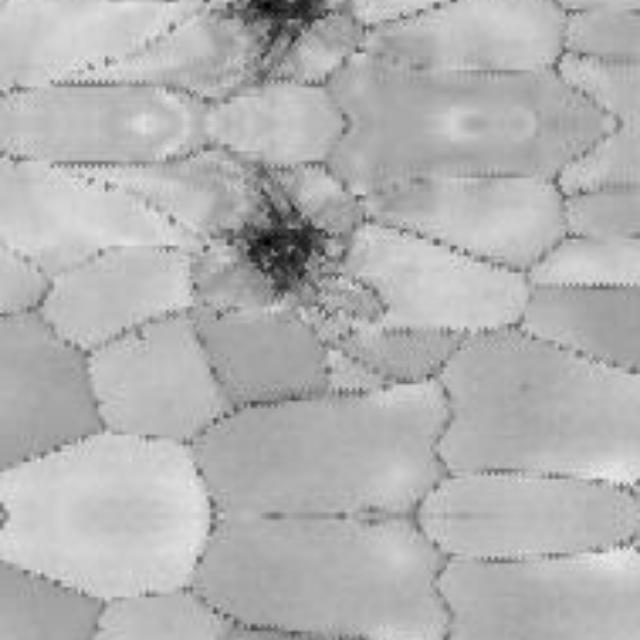good_void: (212, 174, 350, 308), (212, 0, 345, 74)
